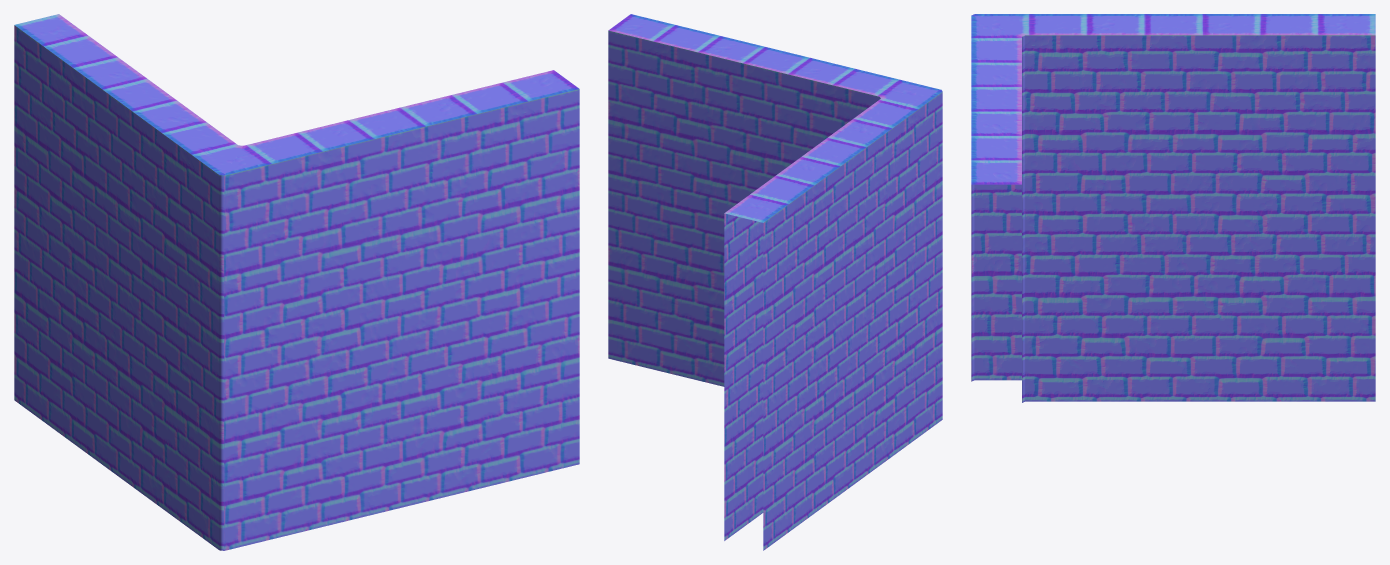
File: sm_wall_corner_02.fbx
The picture shows the model from 3 angles, left to right: view 1: azimuth 30°, elevation 25°; view 2: azimuth 150°, elevation 25°; view 3: azimuth 270°, elevation 25°; orthographic projection. The views are drawn at different scales.
Visible parts, largest first — view 1: sm_wall_corner_02; view 2: sm_wall_corner_02; view 3: sm_wall_corner_02.
Boxes of the visible parts, bbox=[...] form: sm_wall_corner_02: bbox=[14, 14, 579, 550]; sm_wall_corner_02: bbox=[608, 14, 942, 550]; sm_wall_corner_02: bbox=[971, 14, 1375, 402].
Size of the model in its own units: 400 by 400 by 400.
Materials: 1 (1 with a texture image).
